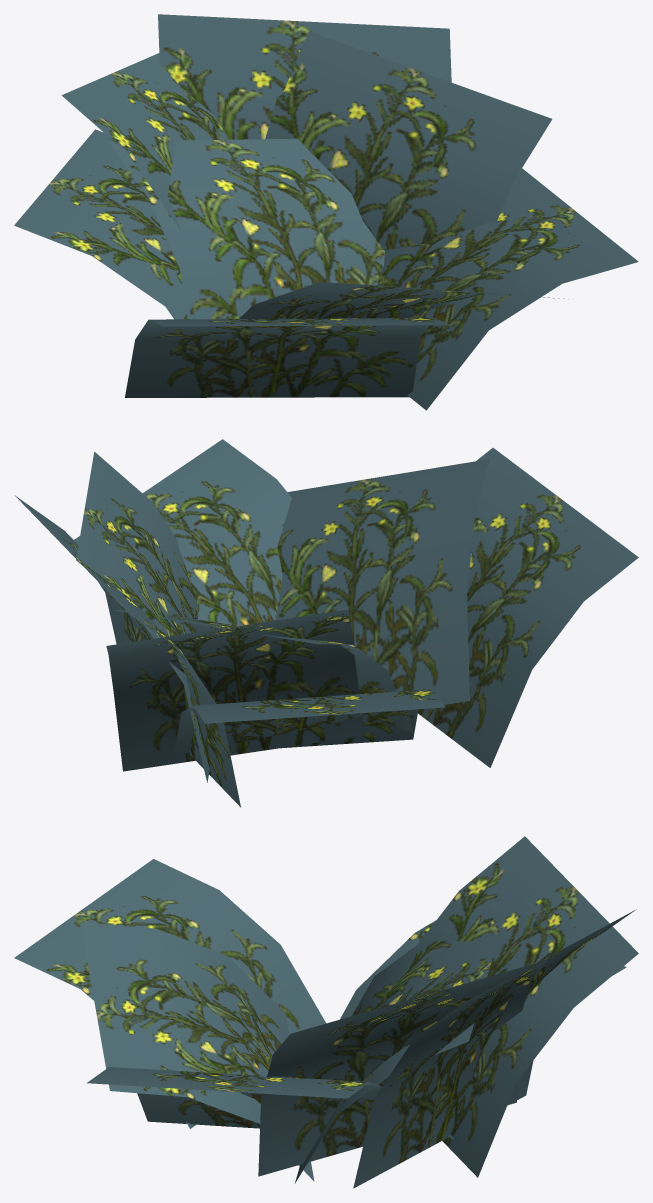
File: 4002_Item_hua_5.FBX
3 views of the same model, one above another, from view 1: azimuth 30°, elevation 25°; view 2: azimuth 150°, elevation 25°; view 3: azimuth 270°, elevation 25° (orthographic). The views are drawn at different scales.
Visible parts, largest first — view 1: 4002_Item_hua_5; view 2: 4002_Item_hua_5; view 3: 4002_Item_hua_5.
Part boxes in pixels (<box>): 4002_Item_hua_5: <box>14,14,638,410</box>; 4002_Item_hua_5: <box>14,439,638,807</box>; 4002_Item_hua_5: <box>14,836,638,1188</box>.
Bounding box in the file's own units: 19120 × 10250 × 23313.
